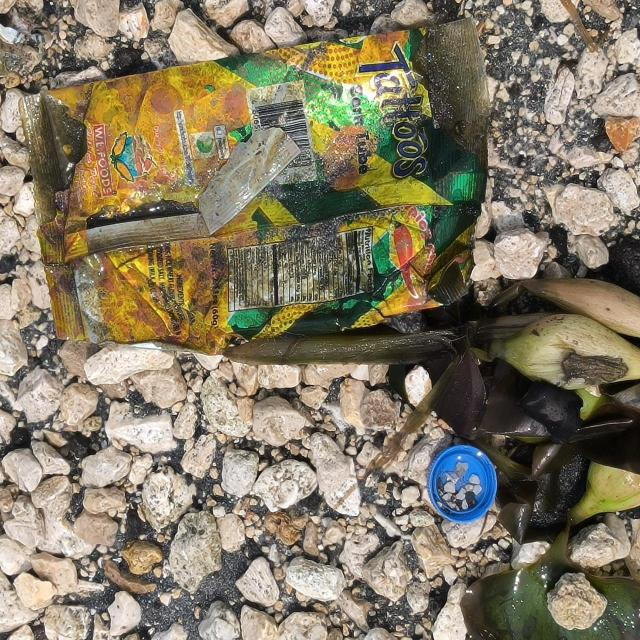plastic_waste: (18, 14, 493, 358), (426, 445, 499, 525)
